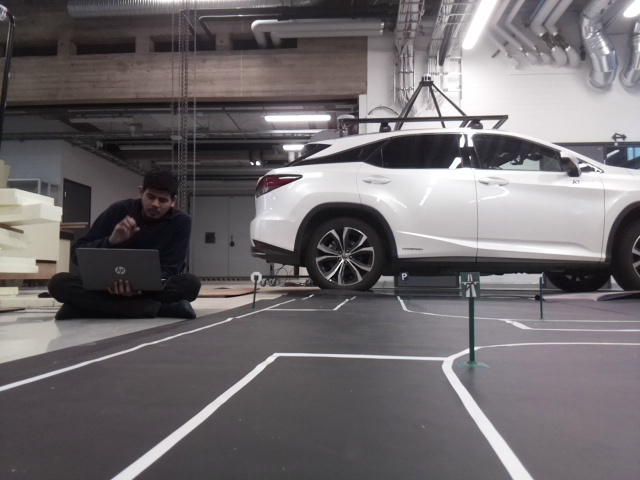HighwayExit: (460, 272, 479, 297)
Parking: (401, 272, 407, 280)
